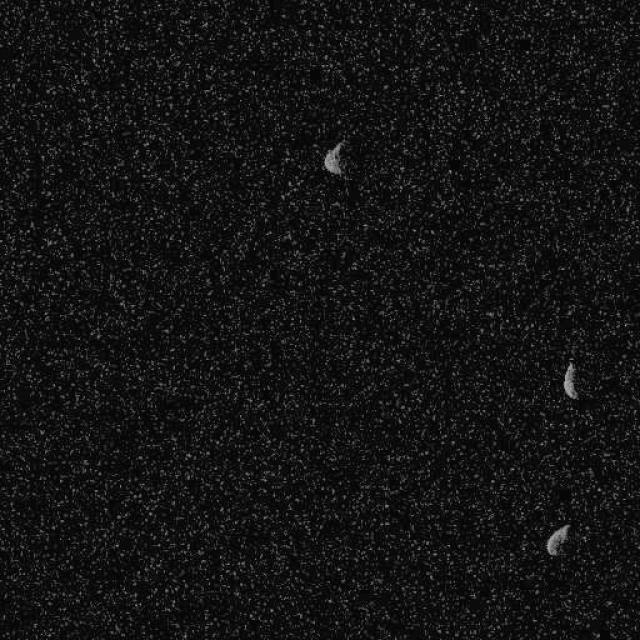D2: (321, 140, 345, 176), (545, 522, 570, 556), (561, 361, 579, 400)
